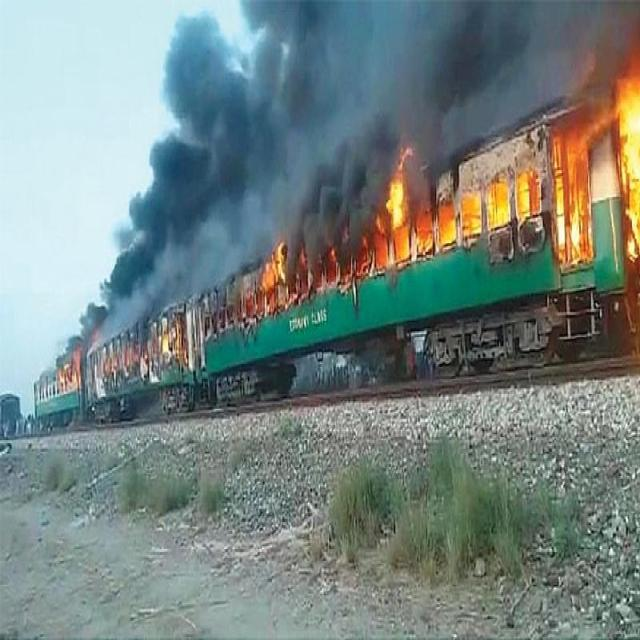fire: (556, 136, 594, 264)
smoke: (274, 5, 543, 118), (159, 161, 306, 246), (311, 134, 378, 217)
